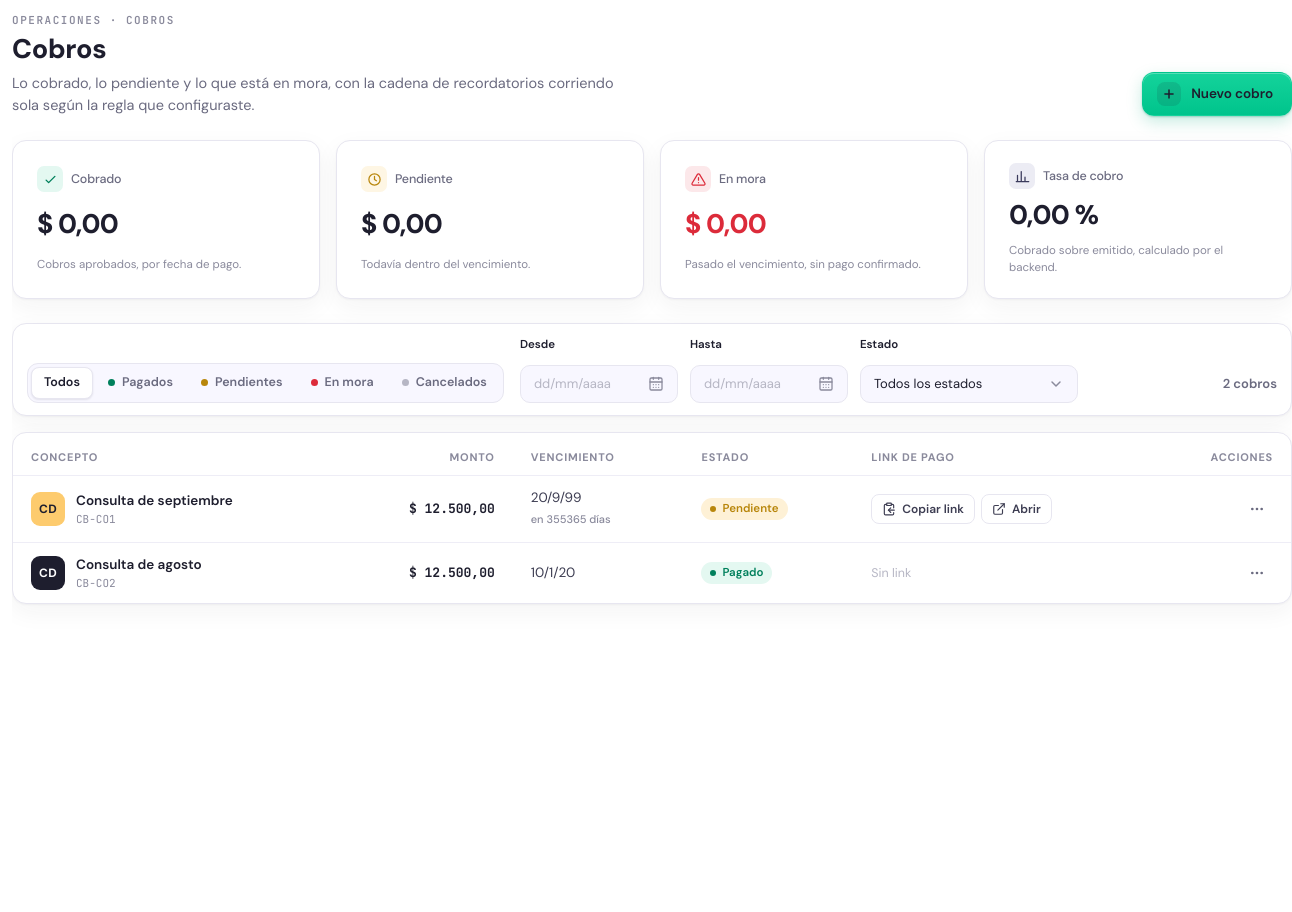
it: el listado de cobros — menú ⋯ › Escape lo cierra
Click the button named "Más acciones para Consulta de septiembre" at {"x": 1257, "y": 509}, box [1241,493,1273,525]
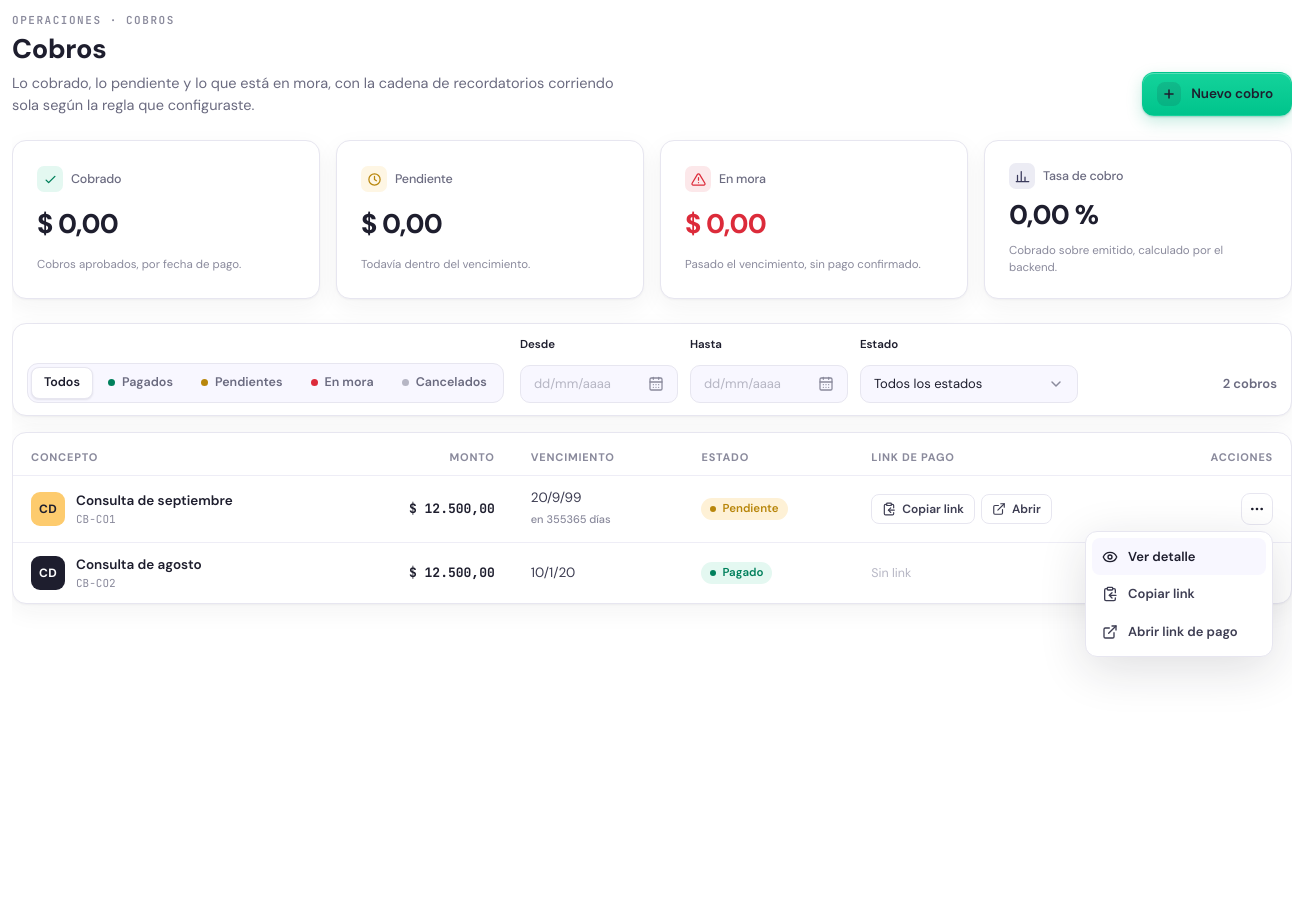
Press Escape
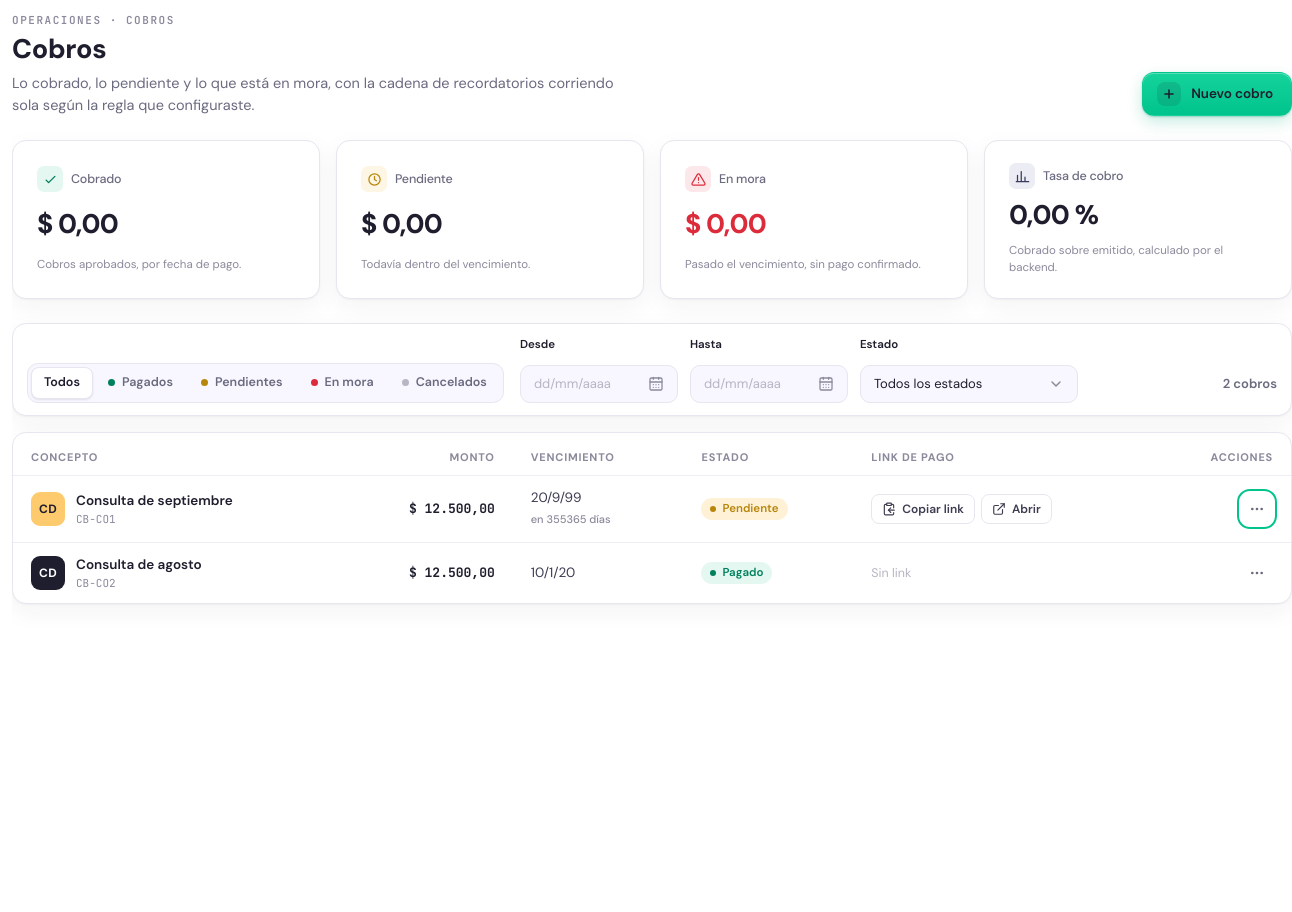
Expected: the menu is gone
